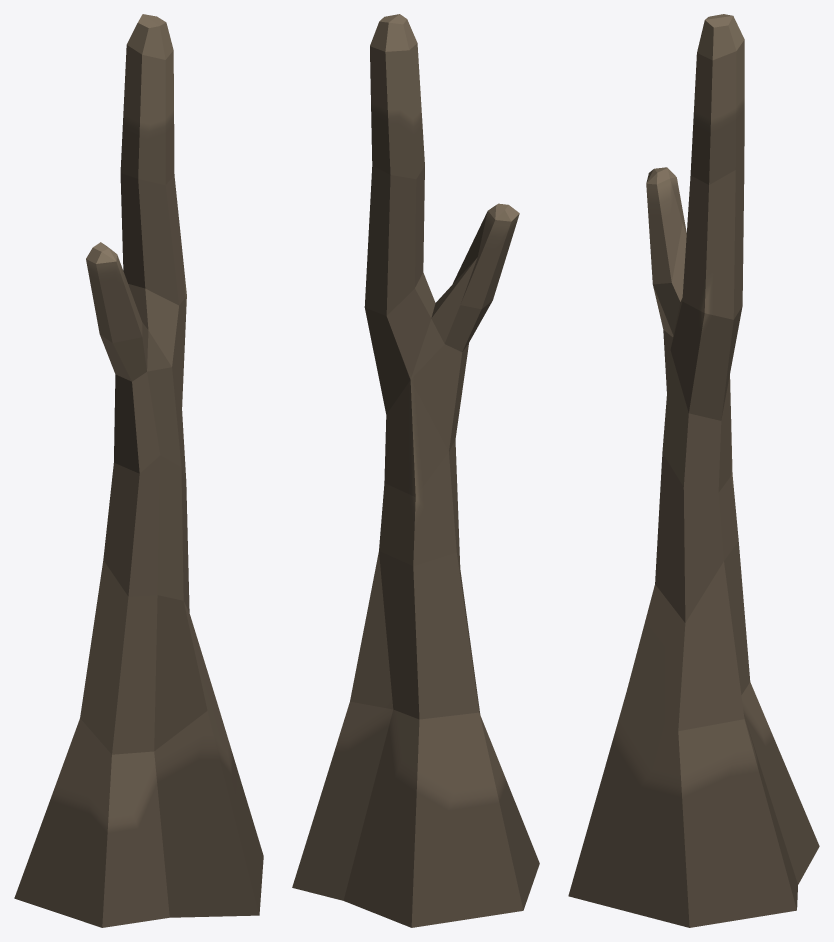
File: bog_roots.gltf
3 renders of one model, left to right at view 1: azimuth 30°, elevation 25°; view 2: azimuth 150°, elevation 25°; view 3: azimuth 270°, elevation 25°, orthographic.
Visible parts, largest first — view 1: bog_roots; view 2: bog_roots; view 3: bog_roots.
Boxes of the visible parts, bbox=[...] form: bog_roots: bbox=[14, 14, 263, 927]; bog_roots: bbox=[292, 14, 539, 927]; bog_roots: bbox=[568, 14, 819, 927].
Bounding box in the file's own units: 0.6421 × 2.26 × 0.5979.
Materials: 1 (1 with a texture image).
